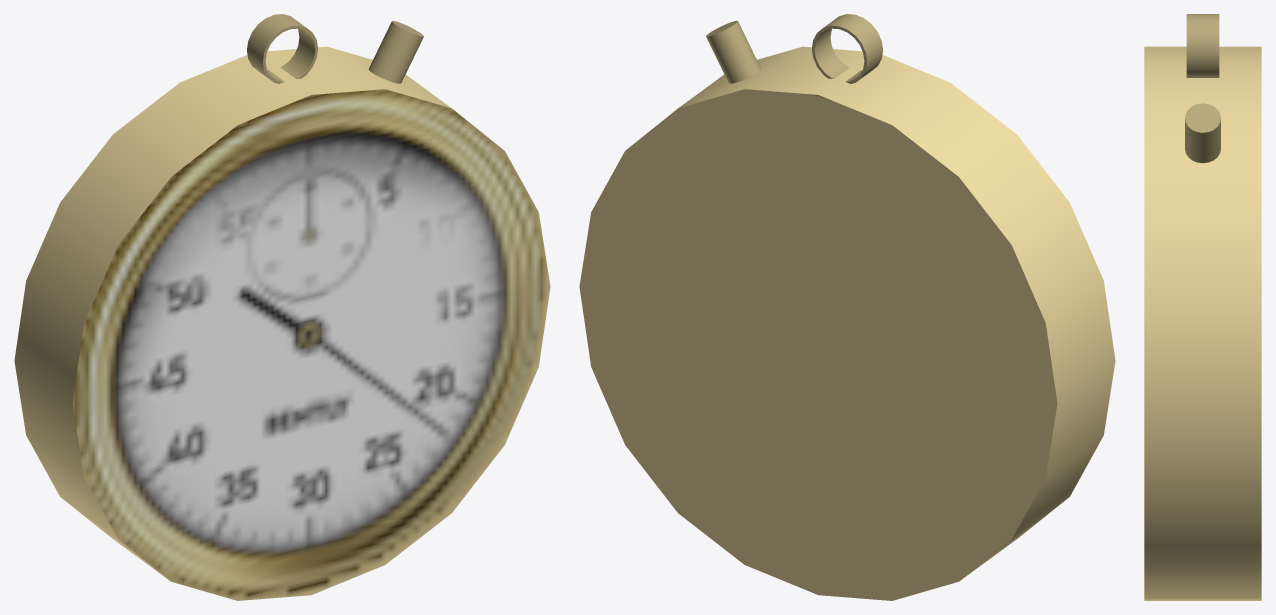
The model's file is clock.fbx.
The picture shows the model from 3 angles, left to right: view 1: azimuth 30°, elevation 25°; view 2: azimuth 150°, elevation 25°; view 3: azimuth 270°, elevation 25°; orthographic projection.
Visible parts, largest first — view 1: pCylinder3; view 2: pCylinder3; view 3: pCylinder3.
Part boxes in pixels (x1=…): pCylinder3: x1=14, y1=14, x2=550, y2=600; pCylinder3: x1=579, y1=14, x2=1115, y2=600; pCylinder3: x1=1144, y1=14, x2=1261, y2=600.
Size of the model in its own units: 2 by 2.21 by 0.4208.
Materials: 2 (1 with a texture image).
